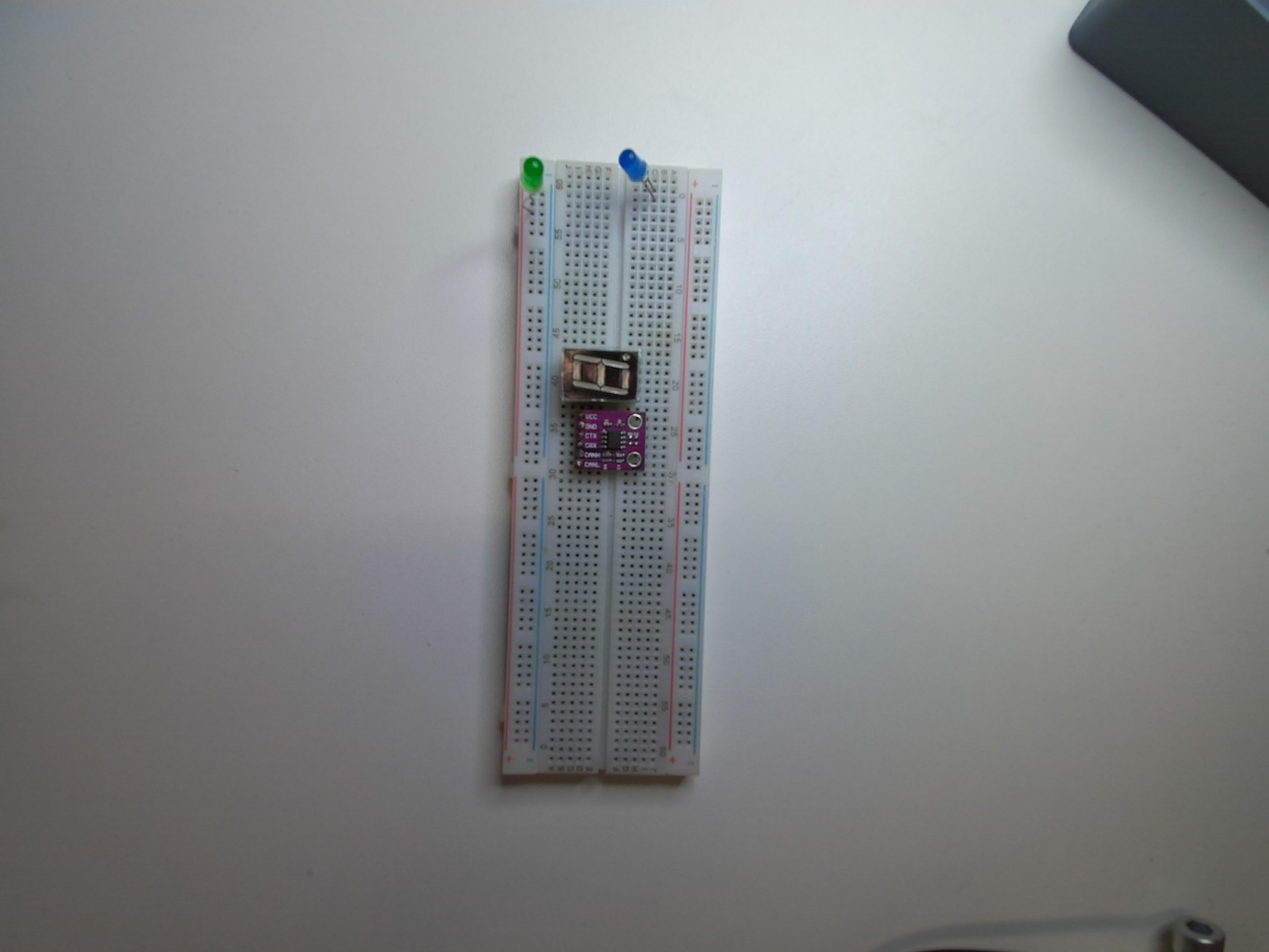base: (491, 148, 723, 795)
blue-led: (613, 148, 649, 190)
digit-board: (555, 343, 638, 411)
green-led: (516, 154, 547, 199)
purple-board: (576, 408, 648, 476)
